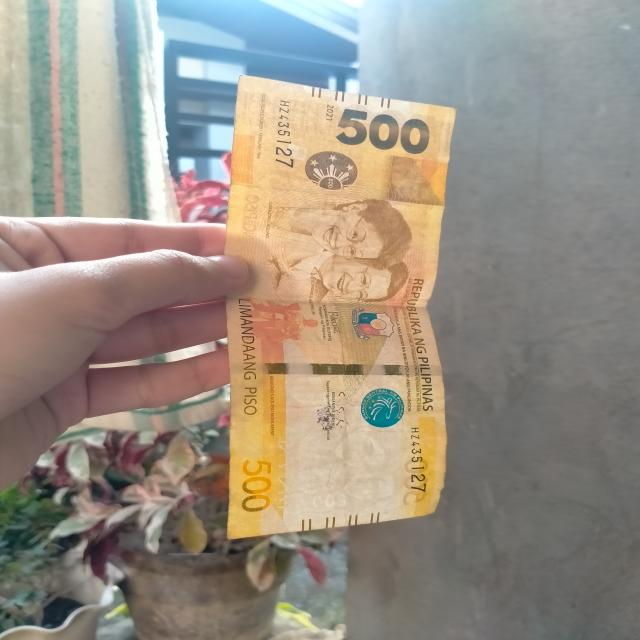concealed_value: (381, 155, 452, 214)
optically_variable_device: (290, 140, 371, 203)
security_thread: (234, 360, 443, 380)
see_through_mark: (267, 435, 301, 515)
serial_number: (267, 94, 301, 175), (400, 424, 433, 499)
watermark: (289, 424, 405, 504)
